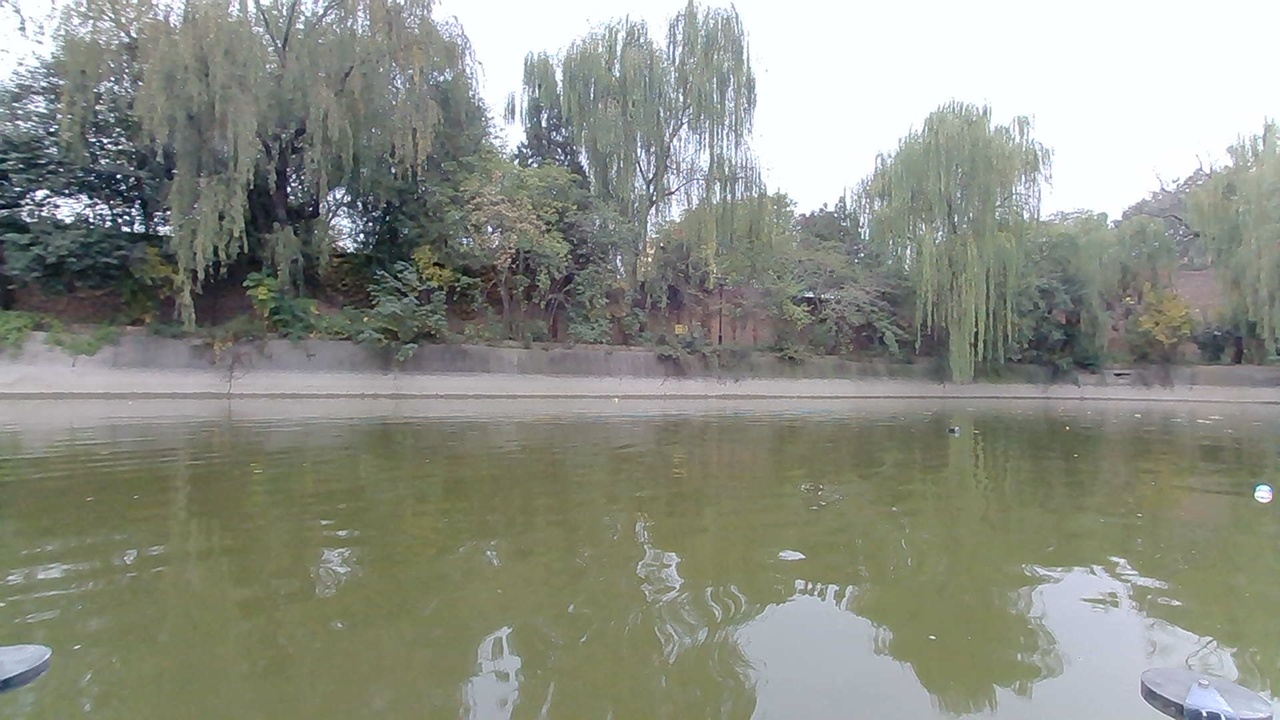bottle: (1236, 478, 1275, 507), (941, 418, 969, 444)
